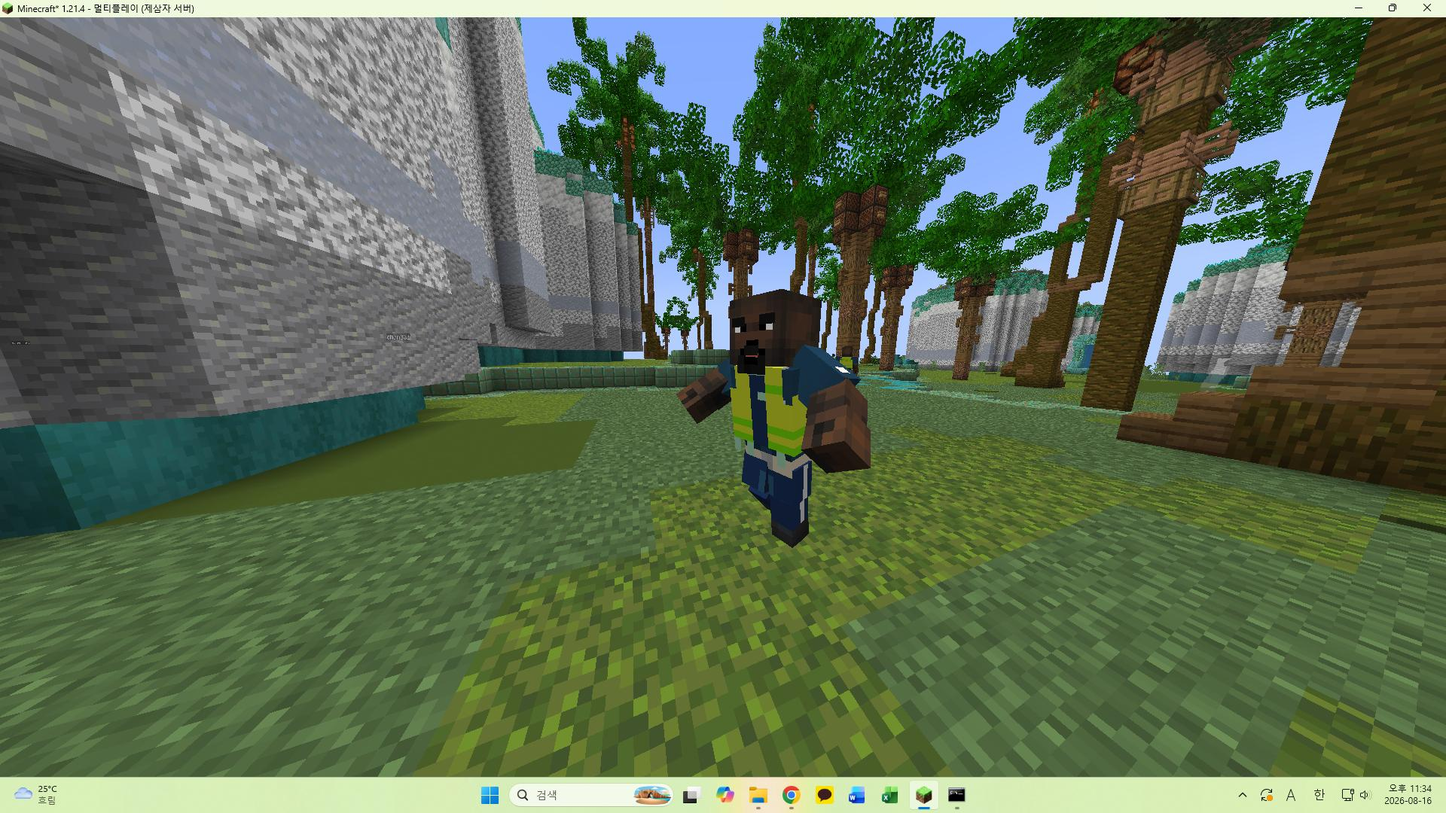Guardian: (679, 289, 870, 546)
